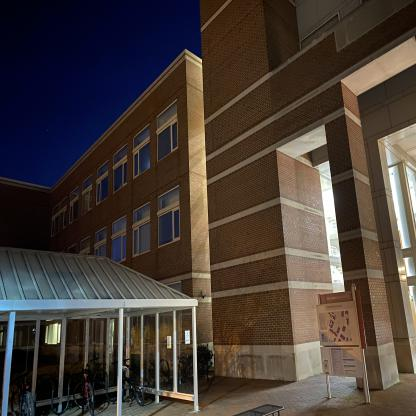eb2: (4, 128, 415, 388)
